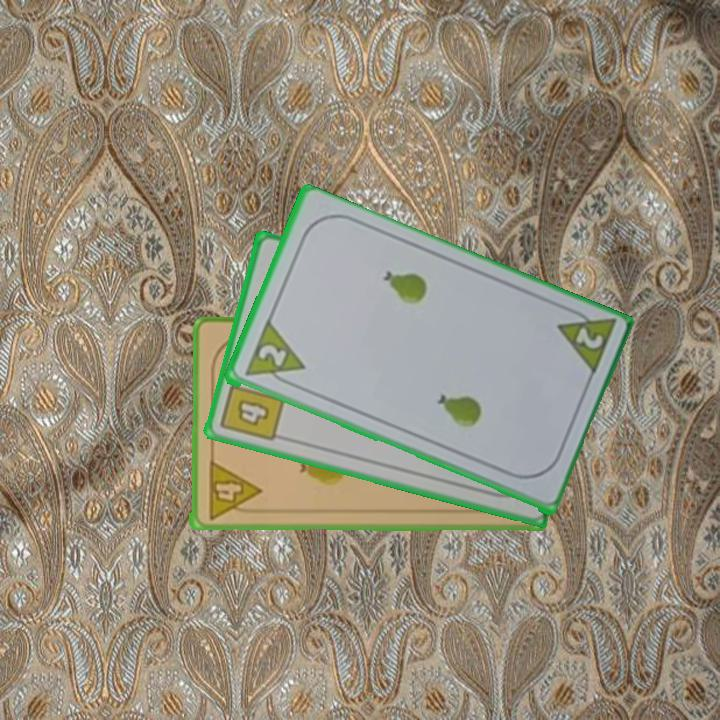2p: (552, 302, 618, 381), (254, 340, 289, 370)
4b: (217, 370, 287, 445)
4p: (204, 457, 262, 522)
